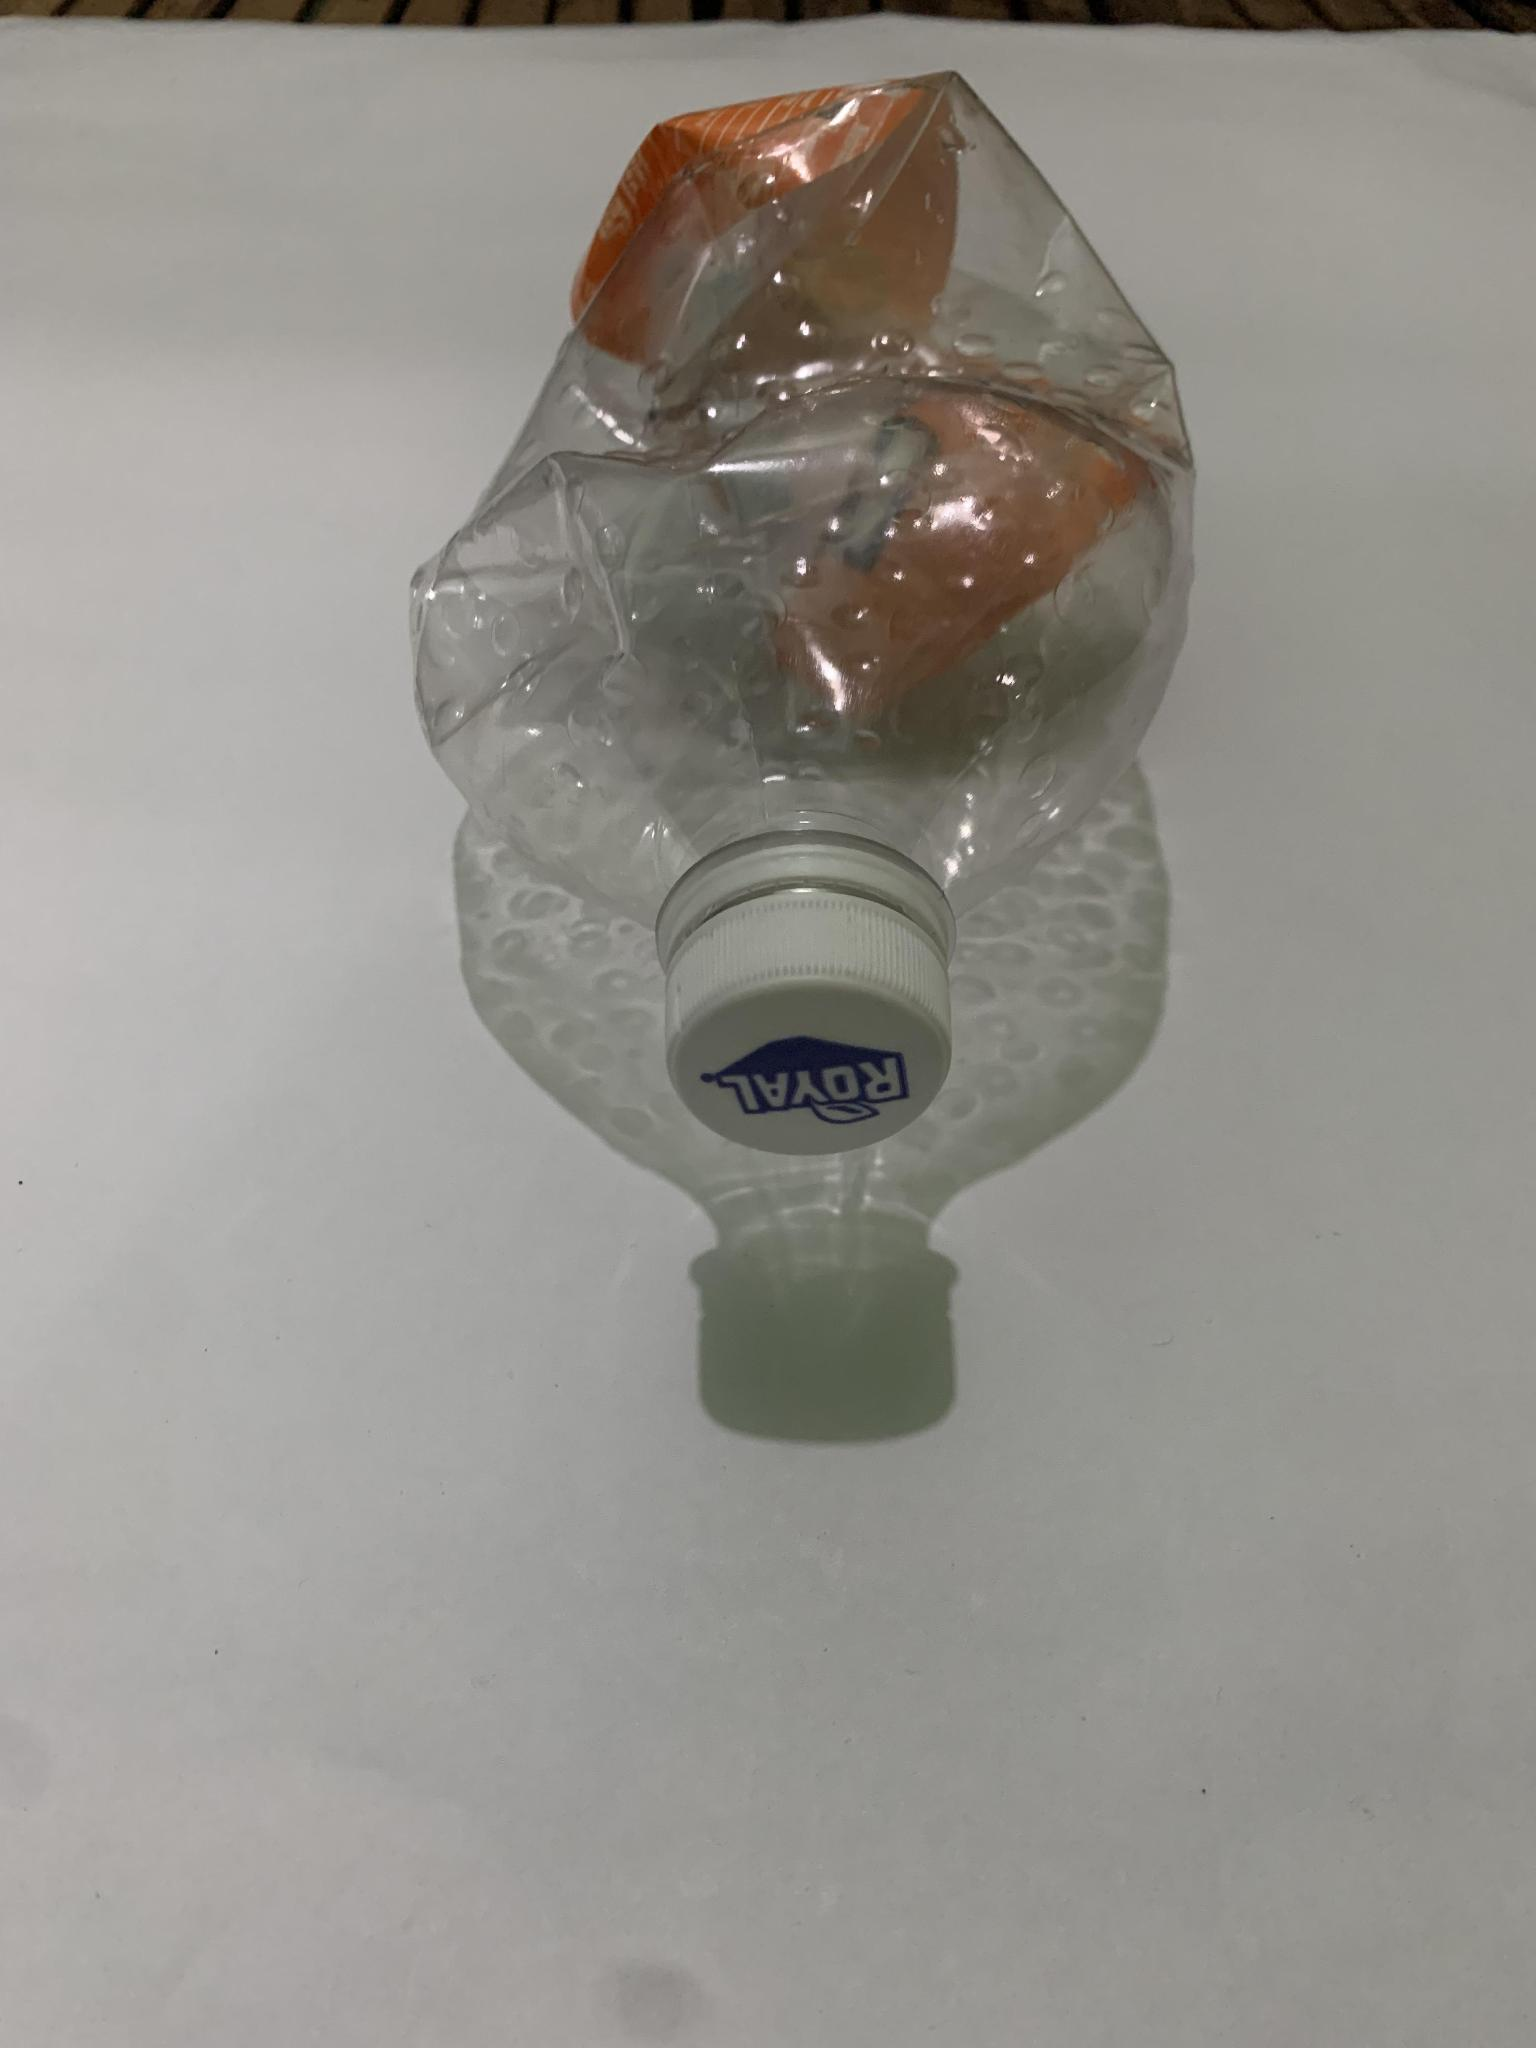bottle: (379, 53, 1229, 1266)
